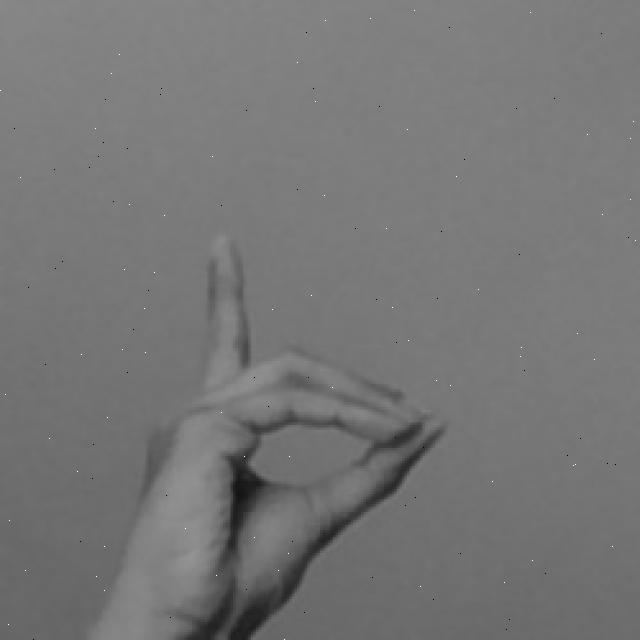D: (93, 232, 455, 640)
